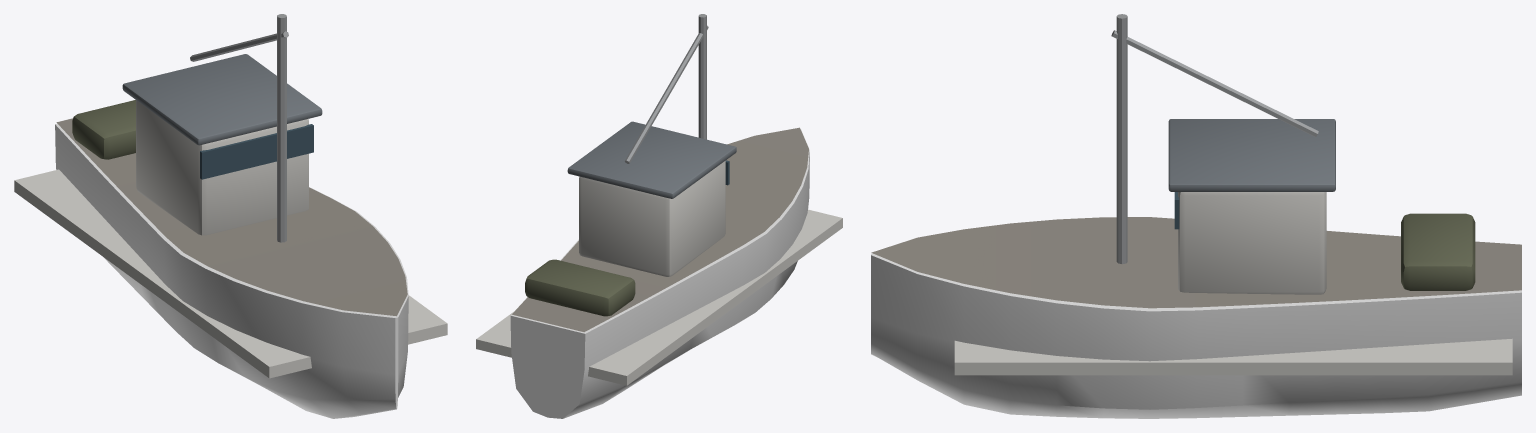
File: fishing_boat.glb
3 views of the same model, side by side, from view 1: azimuth 30°, elevation 25°; view 2: azimuth 150°, elevation 25°; view 3: azimuth 270°, elevation 25° (orthographic). The views are drawn at different scales.
Parts seen in each view (by area): view 1: body; view 2: body; view 3: body.
Boxes of the visible parts, x1,y1,x2,y2 form: body: (14, 14, 447, 418); body: (476, 14, 842, 418); body: (871, 14, 1521, 418).
Bounding box in the file's own units: 2.42 × 4.6 × 7.
